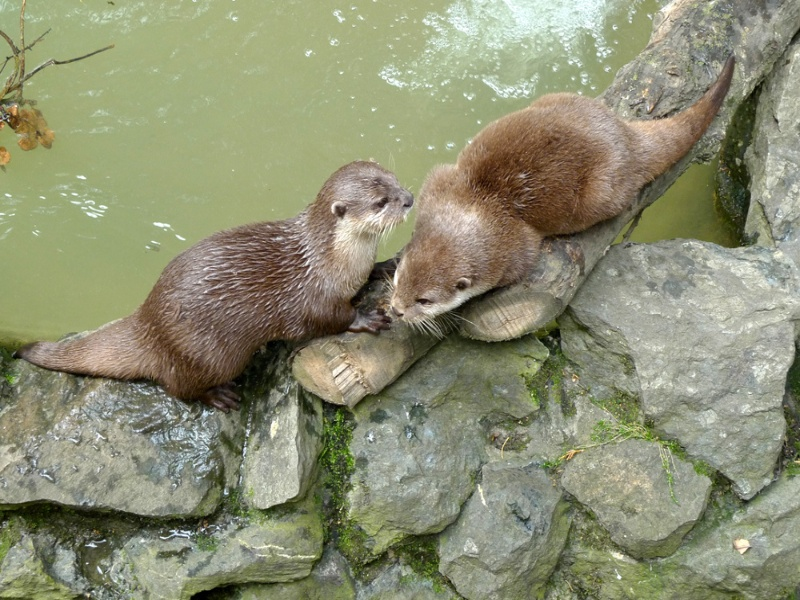minkish: (387, 48, 751, 335), (16, 166, 416, 402)
